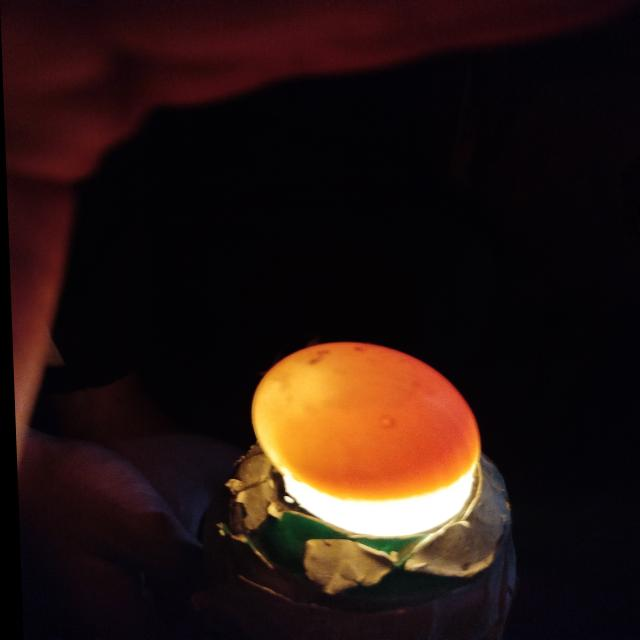Gema Quebrada: (276, 364, 476, 501)
